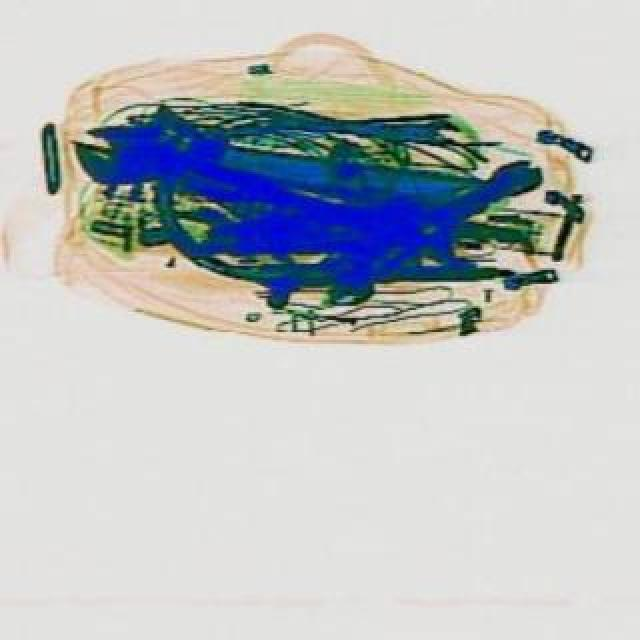scissors: (62, 104, 334, 242)
